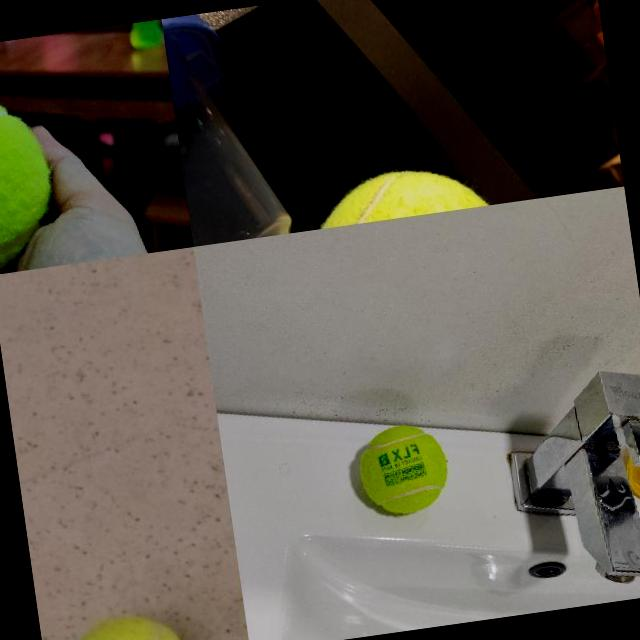Tennis Ball: (332, 150, 509, 225), (0, 82, 63, 275), (354, 420, 454, 520), (55, 606, 195, 640)
